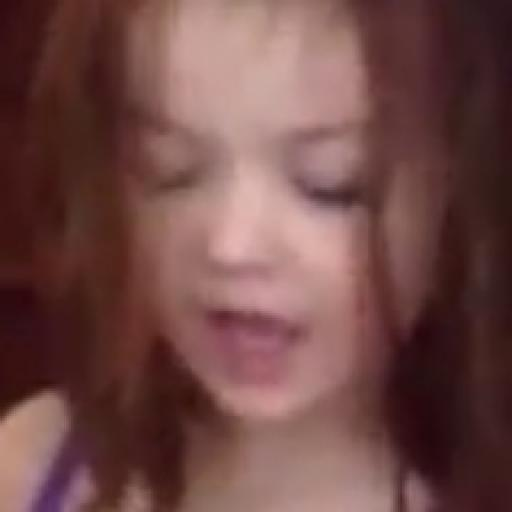Autism: (79, 7, 483, 458)
